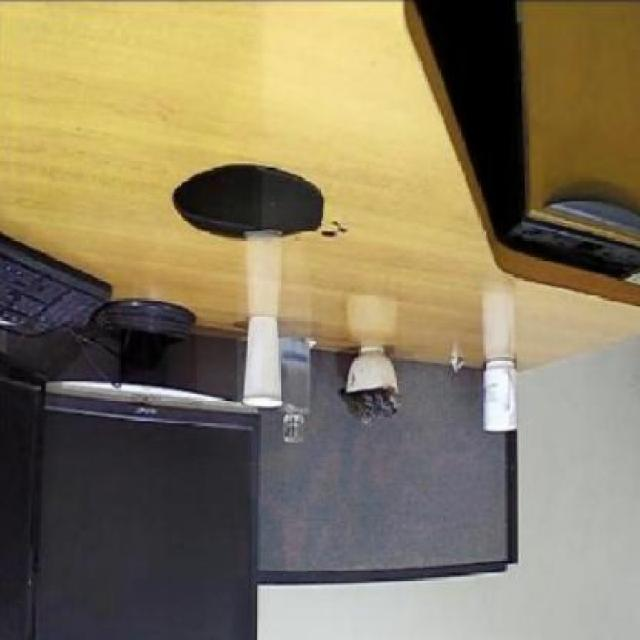spillage: (172, 160, 350, 244)
